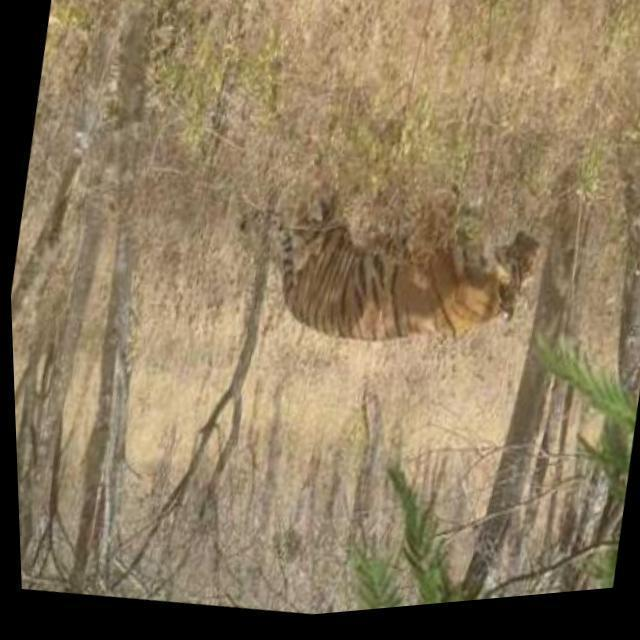tiger: (264, 184, 540, 343)
